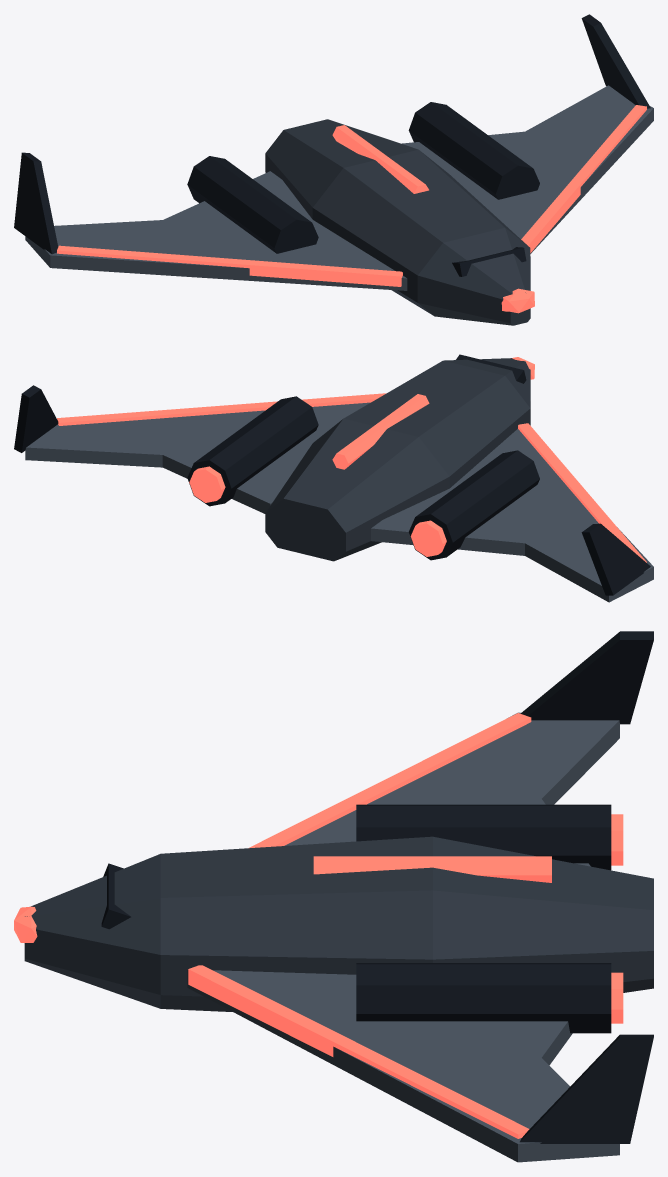
Rendered from air_m_drone.glb.
3 renders of one model, top to bottom at view 1: azimuth 30°, elevation 25°; view 2: azimuth 150°, elevation 25°; view 3: azimuth 270°, elevation 25°, orthographic. The views are drawn at different scales.
Parts seen in each view (by area): view 1: Raider; view 2: Raider; view 3: Raider.
Part boxes in pixels (left/top/right/bottom): Raider: left=14, top=14, right=653, bottom=325; Raider: left=14, top=354, right=653, bottom=602; Raider: left=14, top=631, right=653, bottom=1162.
Bounding box in the file's own units: 3 × 0.495 × 1.88.
